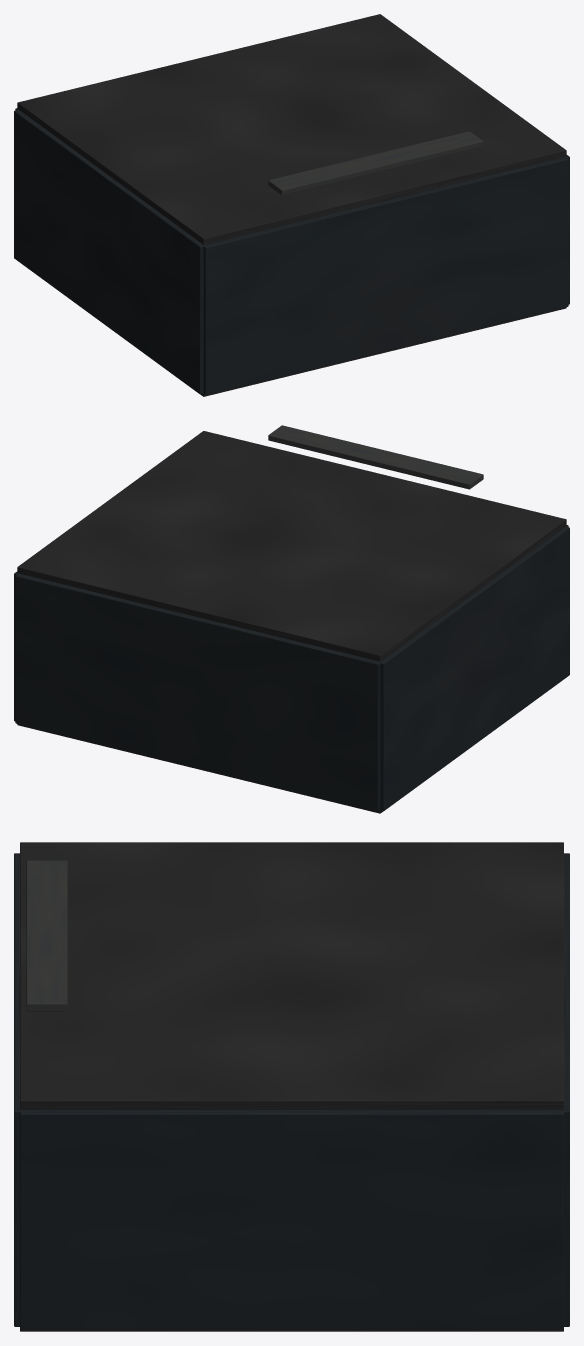
Rendered from bridge_shell_v3.glb.
3 renders of one model, top to bottom at view 1: azimuth 30°, elevation 25°; view 2: azimuth 150°, elevation 25°; view 3: azimuth 270°, elevation 25°, orthographic. The views are drawn at different scales.
Parts seen in each view (by area): view 1: BCeil, BW_S, BW_W, Ledge, BFloor; view 2: BCeil, BW_N, BW_W, Ledge, BFloor; view 3: BCeil, BW_E, Ledge, BW_N, BW_S, BFloor.
Boxes of the visible parts, x1,y1,x2,y2 form: BCeil: (17,14,566,244); BW_S: (203,157,568,394); BW_W: (14,110,205,394); Ledge: (268,131,483,195); BFloor: (200,307,566,396); BCeil: (17,431,566,661); BW_N: (15,574,380,811); BW_W: (378,526,569,811); Ledge: (268,425,483,489); BFloor: (17,724,382,813); BCeil: (20,842,563,1109); BW_E: (20,1109,563,1329); Ledge: (26,860,67,1011); BW_N: (563,853,569,1326); BW_S: (14,853,20,1326); BFloor: (20,1329,563,1331).
Size of the model in its own units: 18.35 by 8.78 by 16.35.
Materials: 4 (4 with a texture image).
